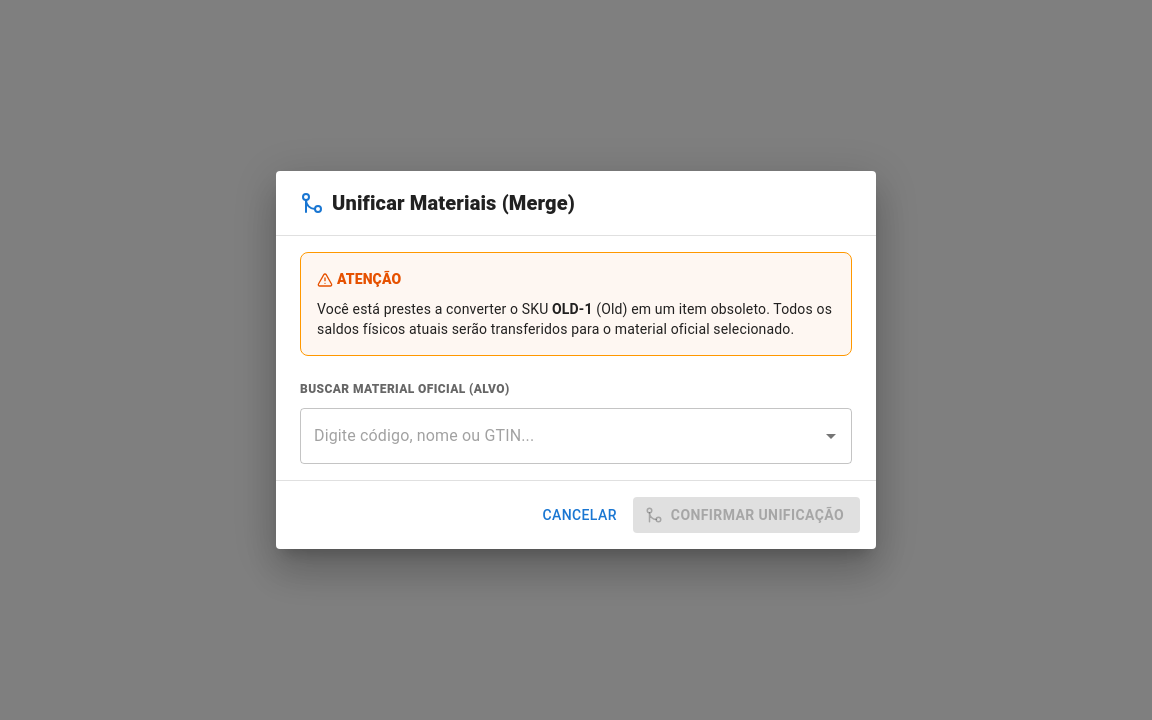
Test case: MergeMaterialModal › shows error message when merge fails
Step 1. Type "OFF" into the dropdown with placeholder "Digite código, nome ou GTIN..." → (561, 436), box [309,417,813,455]
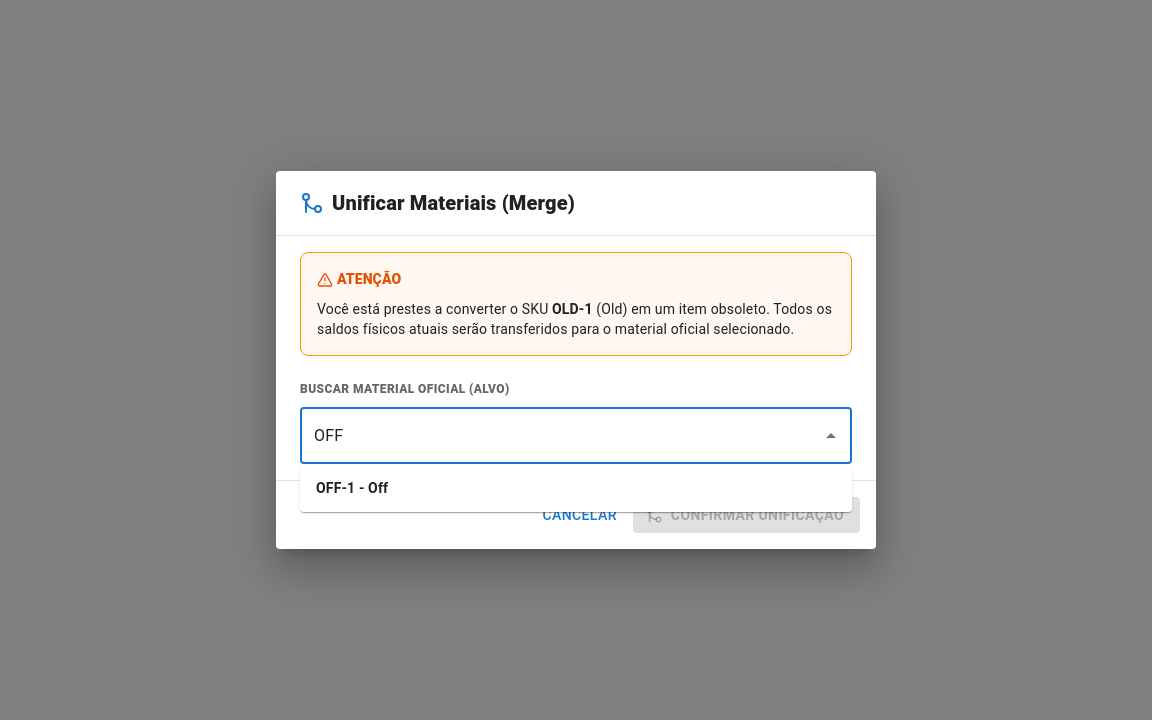
Step 2. Click the option "OFF-1 - Off" → (352, 488), box [316,480,388,496]
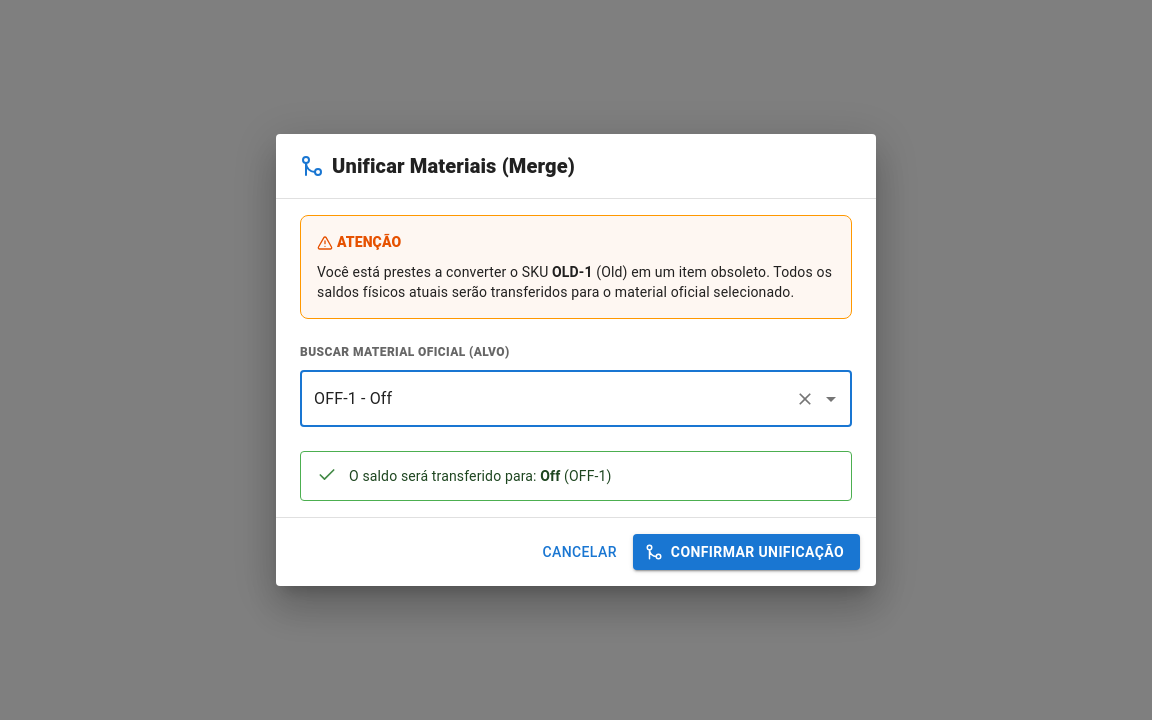
Step 3. Click the button "Confirmar Unificação" → (746, 552), box [633,534,860,570]
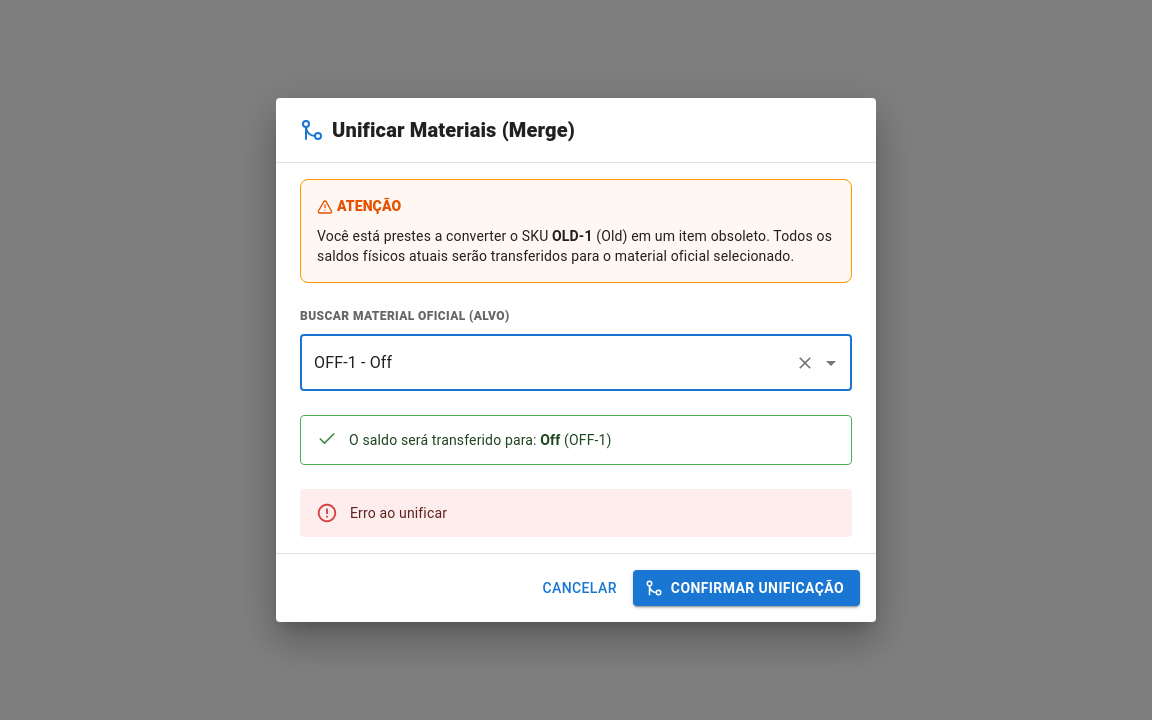
Check: the text "Erro ao unificar" is shown, box [350,505,447,521]
